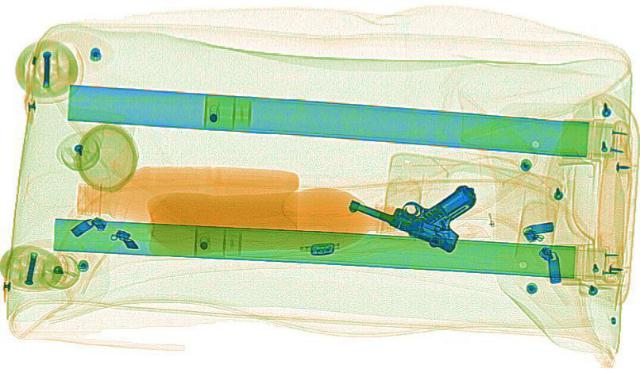Gun: (332, 172, 478, 251)
